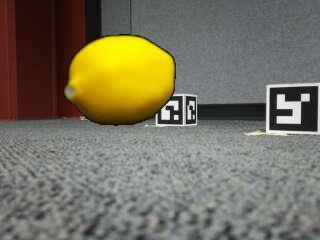lemon: (66, 35, 177, 125)
